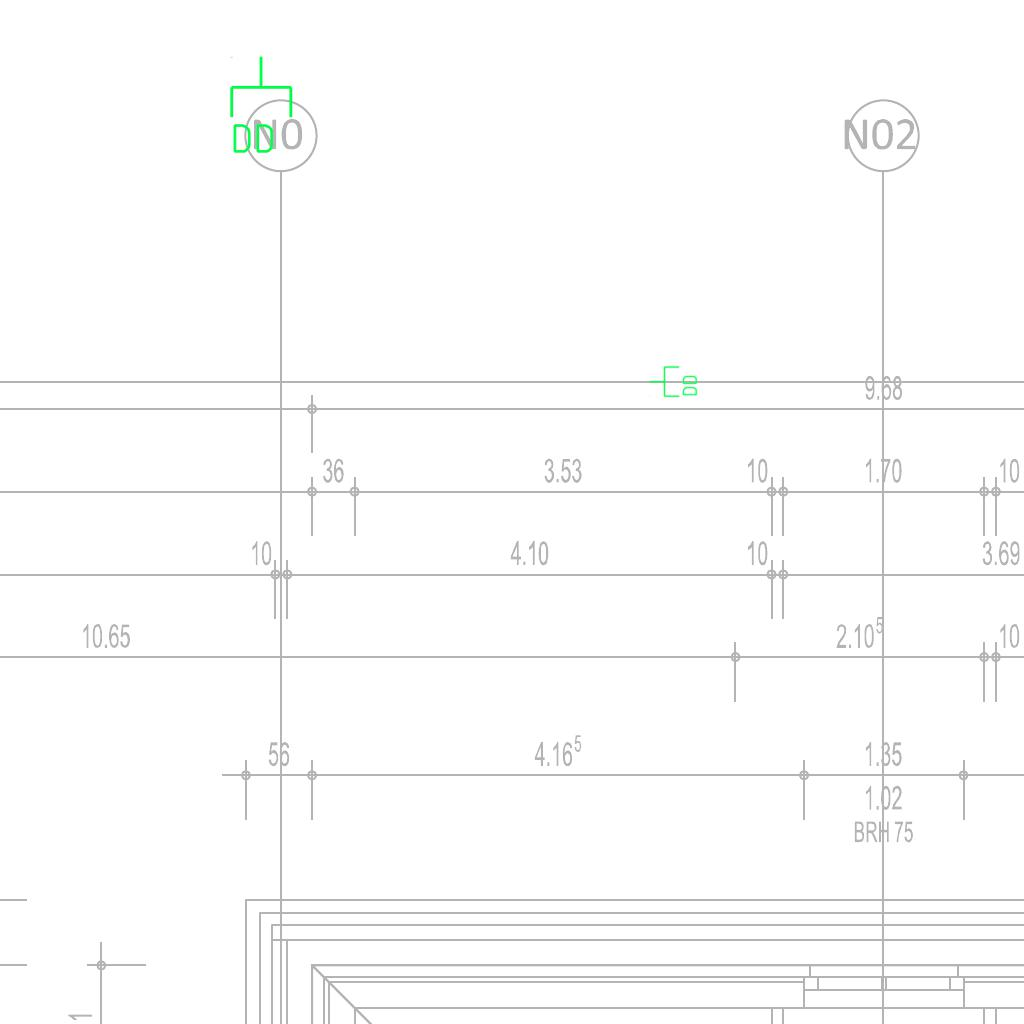Datenanschluss_zweifach: (226, 54, 295, 157), (648, 365, 699, 399)
